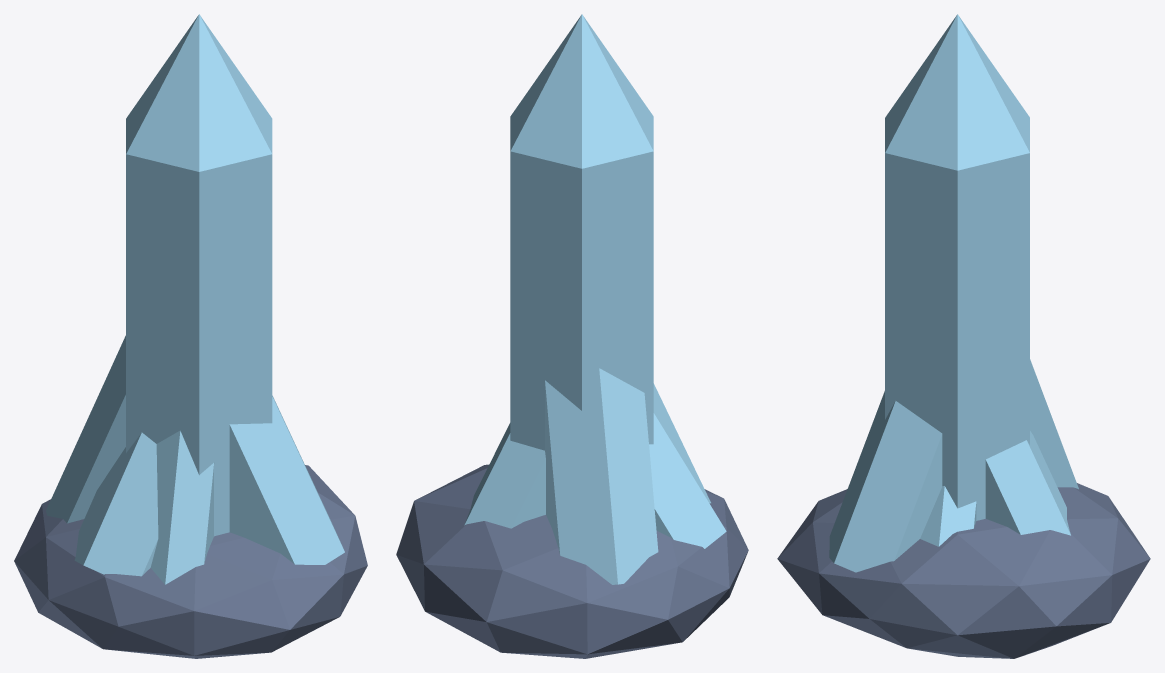
Rendered from MinecartMayhemCluster.obj.
3 renders of one model, left to right at view 1: azimuth 30°, elevation 25°; view 2: azimuth 150°, elevation 25°; view 3: azimuth 270°, elevation 25°, orthographic. The views are drawn at different scales.
Parts seen in each view (by area): view 1: Crystal, Rock; view 2: Crystal, Rock; view 3: Crystal, Rock.
Boxes of the visible parts, <box> form: Crystal: <box>46,14,344,584</box>; Rock: <box>14,465,367,658</box>; Crystal: <box>464,14,726,584</box>; Rock: <box>396,464,748,658</box>; Crystal: <box>829,14,1078,572</box>; Rock: <box>777,483,1150,658</box>.
Bounding box in the file's own units: 5.07 × 9.73 × 5.36.
